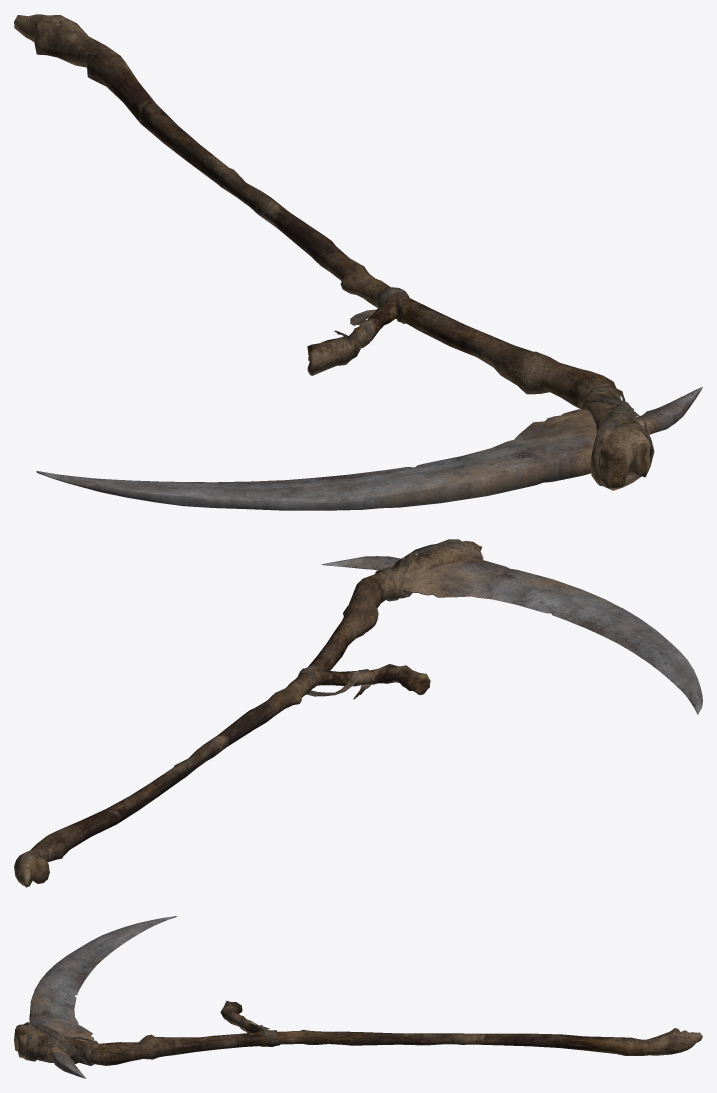
3 views of the same model, one above another, from view 1: azimuth 30°, elevation 25°; view 2: azimuth 150°, elevation 25°; view 3: azimuth 270°, elevation 25° (orthographic). The views are drawn at different scales.
Parts seen in each view (by area): view 1: WP_A_1052, WP_A_1052.001; view 2: WP_A_1052, WP_A_1052.001; view 3: WP_A_1052, WP_A_1052.001.
Boxes of the visible parts, x1=… form: WP_A_1052: x1=14, y1=14, x2=702, y2=510; WP_A_1052.001: x1=334, y1=287, x2=654, y2=490; WP_A_1052: x1=14, y1=541, x2=702, y2=887; WP_A_1052.001: x1=298, y1=539, x2=483, y2=699; WP_A_1052: x1=14, y1=916, x2=702, y2=1078; WP_A_1052.001: x1=23, y1=1018, x2=279, y2=1065.
Bounding box in the file's own units: 134 × 12.77 × 240.
Materials: 2 (2 with a texture image).
